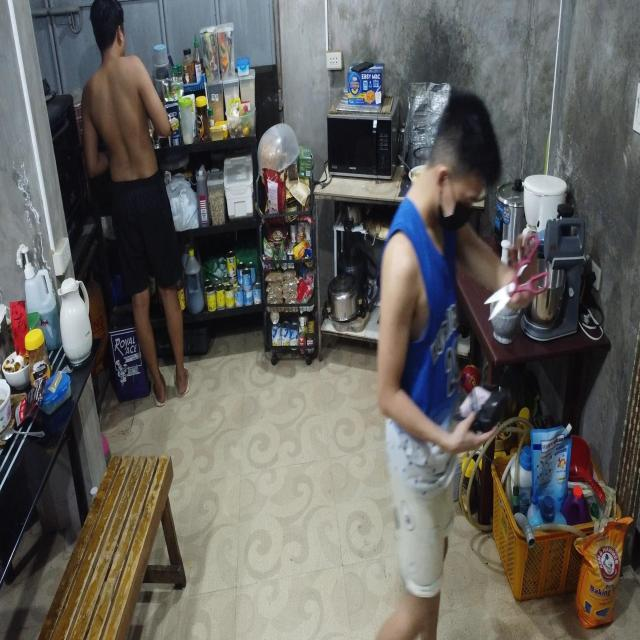scissor: (484, 234, 550, 321)
